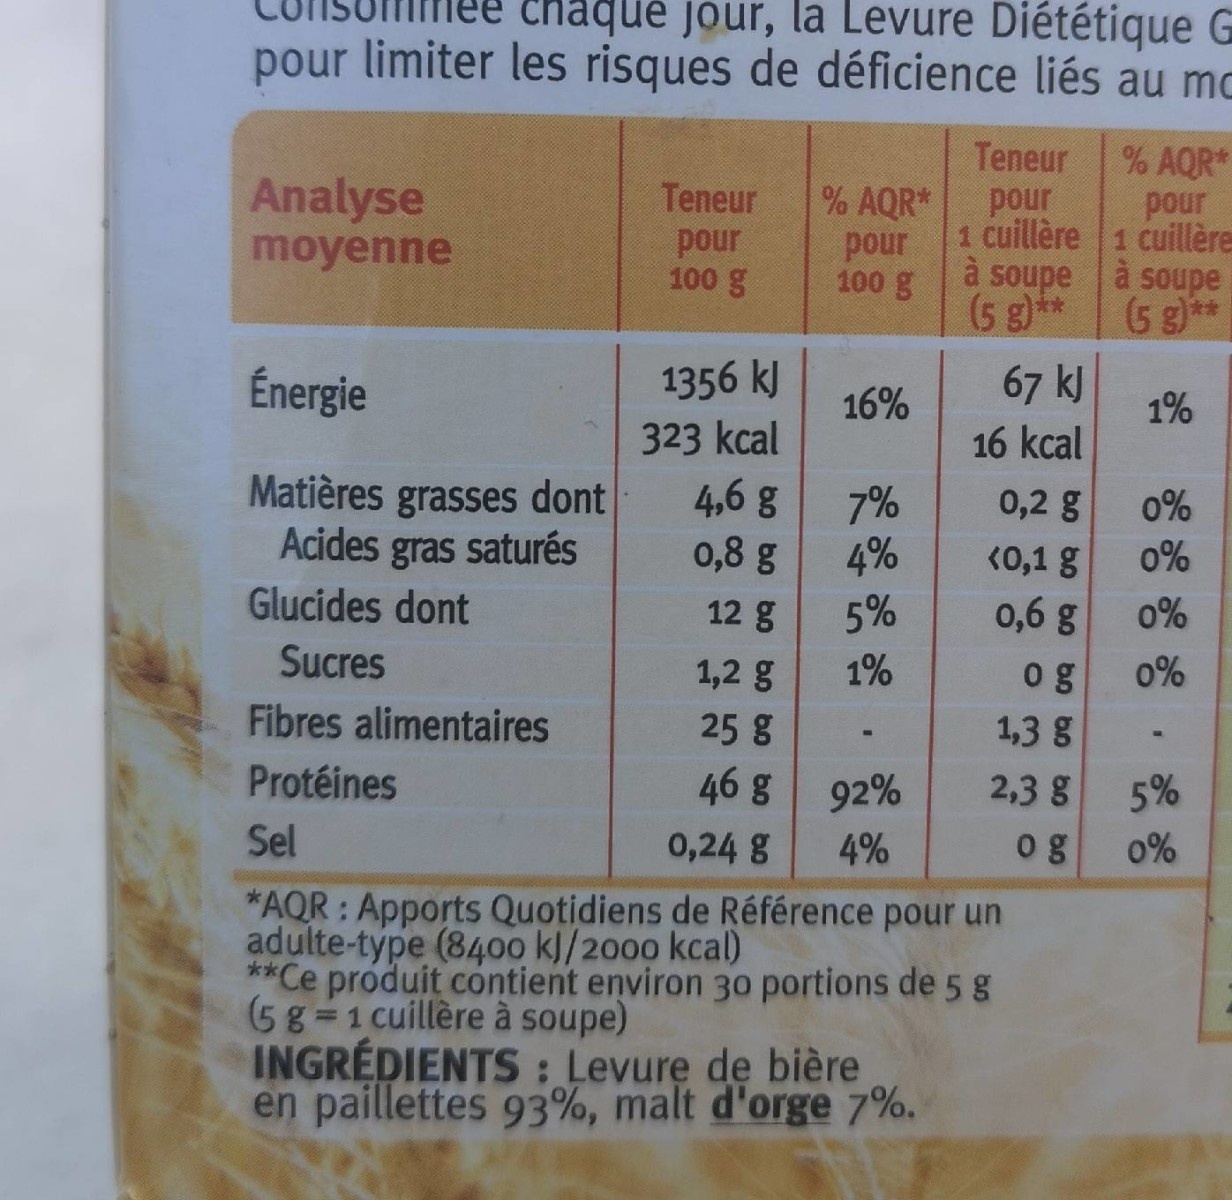column: (246, 104, 608, 878), (636, 104, 779, 881), (958, 107, 1083, 881), (1114, 106, 1232, 881), (820, 102, 917, 881)
table: (231, 104, 1232, 881)
